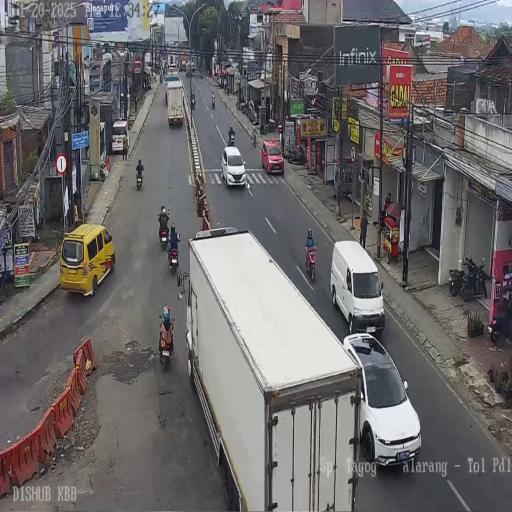car: (343, 332, 422, 467), (329, 241, 385, 334), (59, 223, 115, 295), (222, 145, 247, 188), (261, 138, 284, 175), (111, 118, 130, 154), (169, 63, 177, 73)
motorcycle: (449, 254, 477, 297), (489, 292, 512, 343), (158, 312, 174, 370), (166, 236, 180, 275), (305, 239, 316, 280), (286, 144, 305, 165), (158, 218, 169, 250), (240, 98, 250, 116), (136, 167, 143, 190), (191, 91, 196, 109), (229, 132, 235, 146), (211, 95, 216, 109), (162, 66, 167, 78), (200, 72, 203, 80), (160, 74, 162, 84)
truck: (188, 231, 358, 512), (165, 72, 184, 126), (144, 52, 152, 75), (186, 62, 194, 76), (180, 57, 187, 71)
